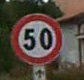limite 50: (9, 12, 63, 65)
